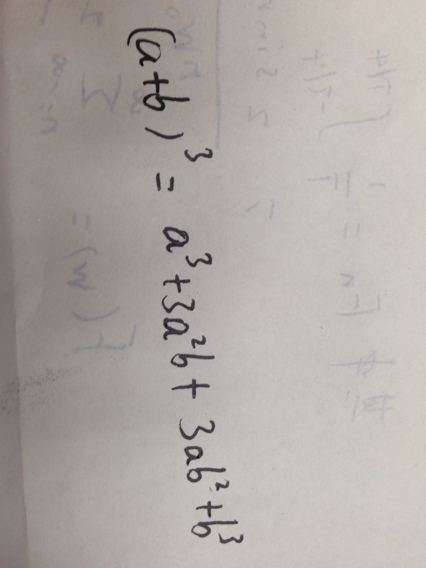cube: (185, 251, 218, 271), (181, 146, 214, 162), (219, 529, 246, 546)
square: (188, 335, 214, 350)
